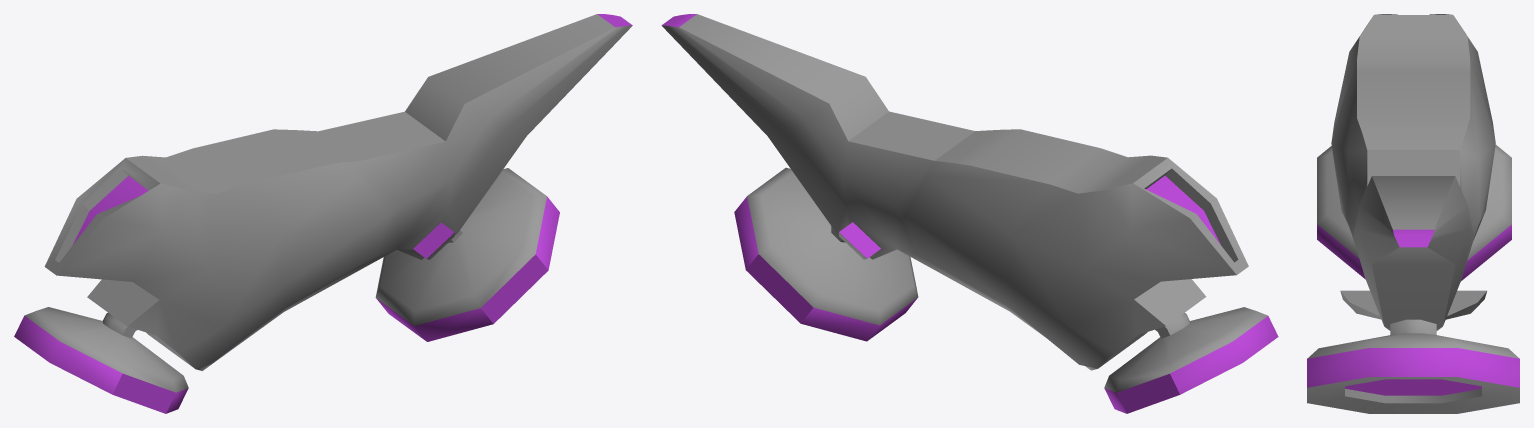
File: bike.fbx
3 views of the same model, side by side, from view 1: azimuth 30°, elevation 25°; view 2: azimuth 150°, elevation 25°; view 3: azimuth 270°, elevation 25° (orthographic). The views are drawn at different scales.
Parts seen in each view (by area): view 1: bike; view 2: bike; view 3: bike.
Boxes of the visible parts, x1,y1,x2,y2 form: bike: (14,14,632,413); bike: (661,14,1278,413); bike: (1307,14,1519,413).
Size of the model in its own units: 3.22 by 1.38 by 0.8782.
